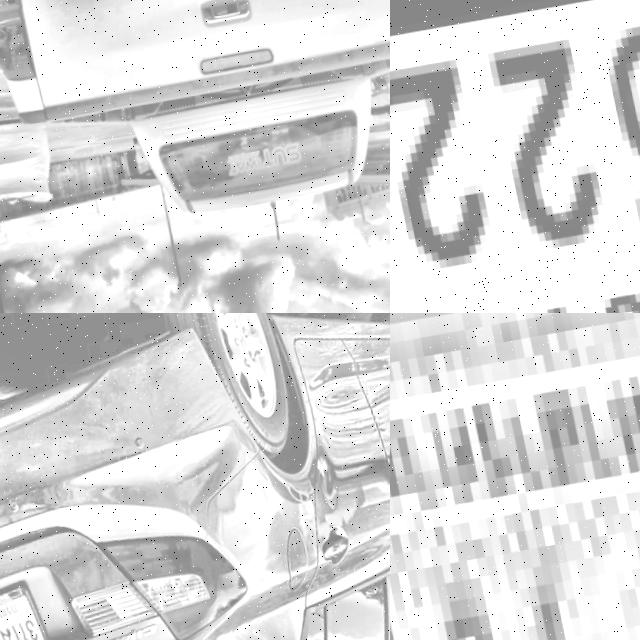license-plate: (390, 313, 640, 640), (390, 0, 640, 313), (0, 576, 51, 640)
